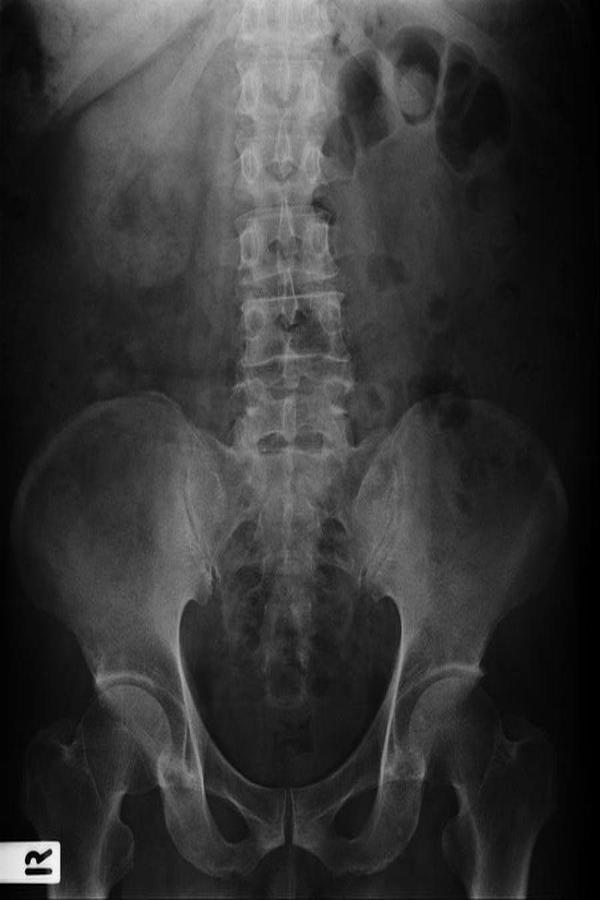lumbar scoliosis: (227, 6, 365, 512)
